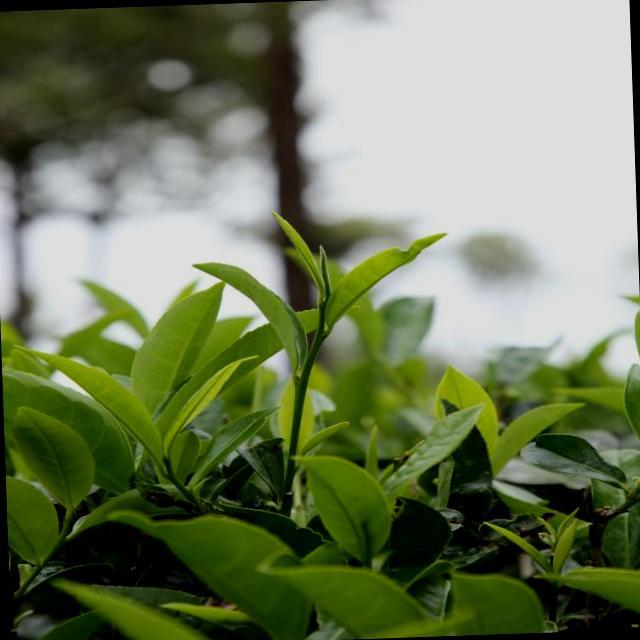Stem: (319, 304, 328, 314)
